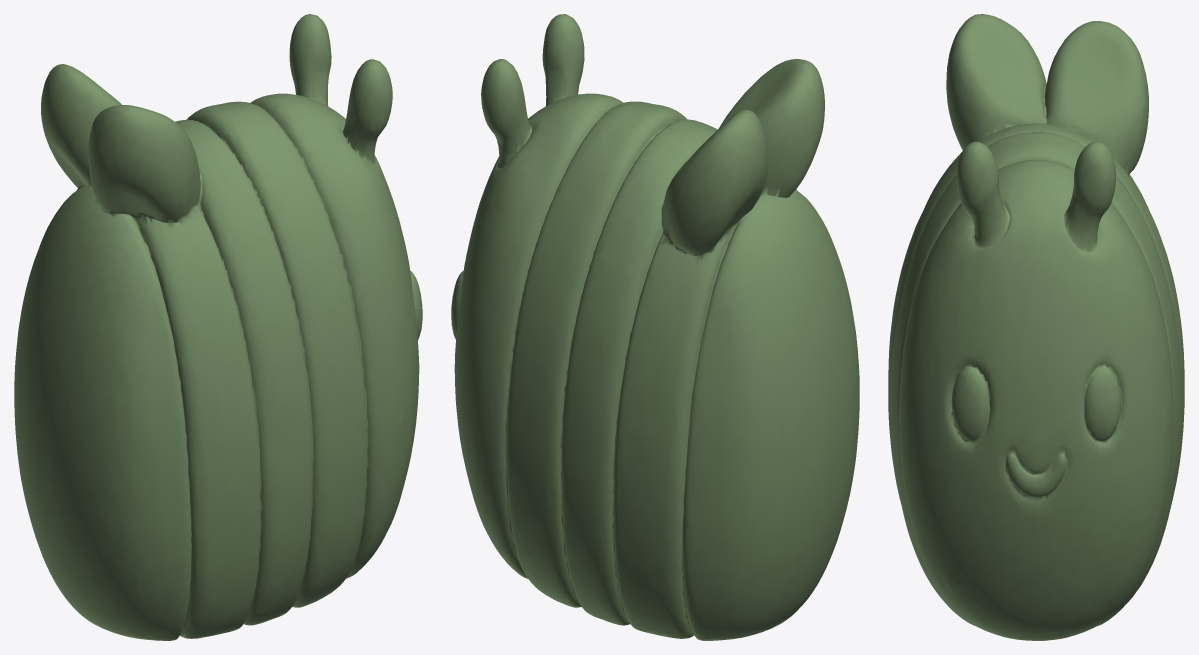
The model's file is bumblebee-friend.glb.
The picture shows the model from 3 angles, left to right: view 1: azimuth 30°, elevation 25°; view 2: azimuth 150°, elevation 25°; view 3: azimuth 270°, elevation 25°; orthographic projection. The views are drawn at different scales.
Parts seen in each view (by area): view 1: tripo_printable_source; view 2: tripo_printable_source; view 3: tripo_printable_source.
Part boxes in pixels (x1,y1,x2,y2): tripo_printable_source: [14, 14, 422, 640]; tripo_printable_source: [451, 14, 859, 640]; tripo_printable_source: [888, 14, 1184, 640].
Size of the model in its own units: 70 by 100 by 52.13.
